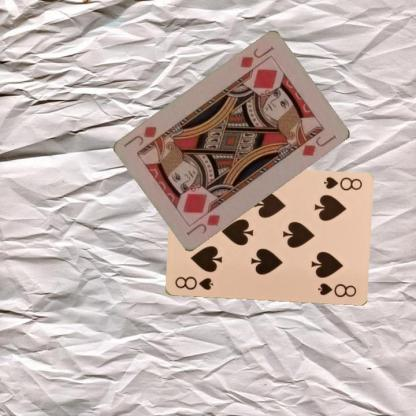8s: (172, 274, 214, 292), (321, 174, 363, 192)
Jd: (183, 212, 222, 238), (238, 44, 276, 70)
